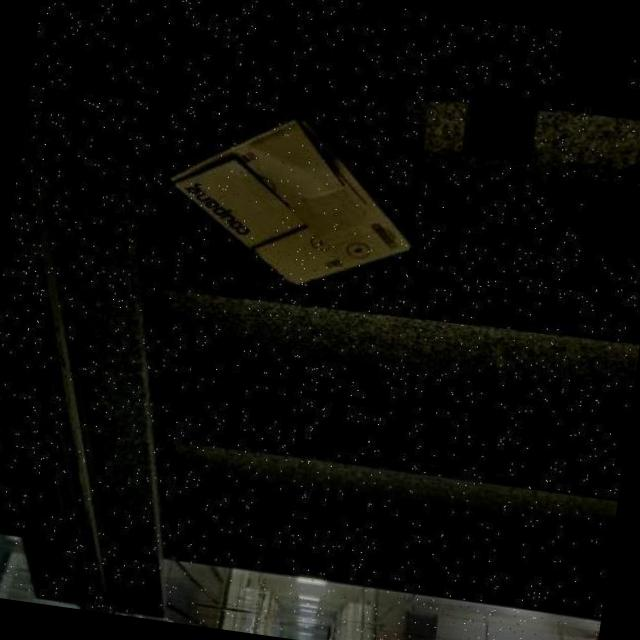box: (147, 0, 456, 307)
